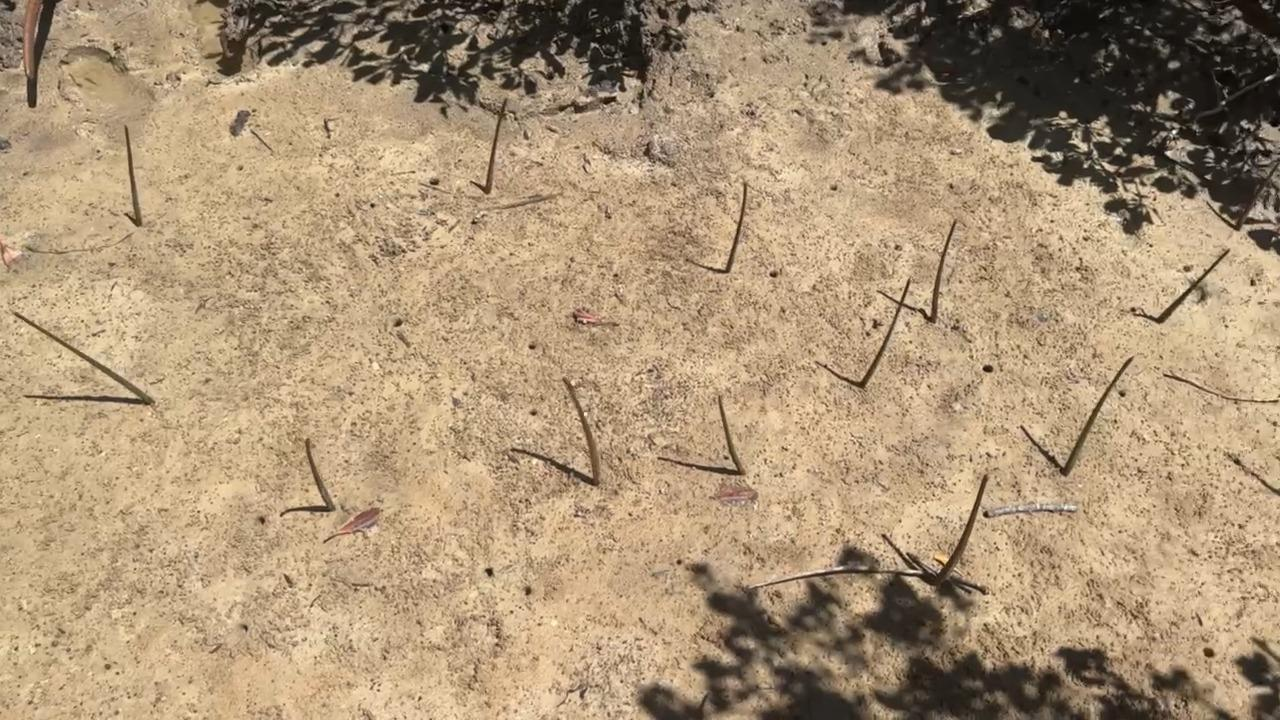Tree: (12, 310, 155, 406), (1061, 355, 1136, 478), (928, 474, 990, 586), (858, 277, 912, 392), (1155, 248, 1231, 326), (562, 374, 602, 485), (1233, 158, 1280, 233), (929, 219, 958, 326), (716, 393, 748, 476), (482, 97, 509, 195), (304, 437, 338, 512), (122, 122, 143, 227), (725, 180, 748, 275)
